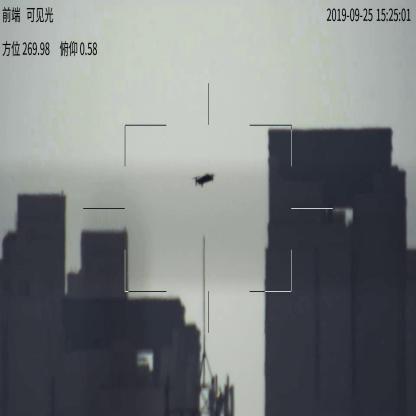uav: (193, 170, 214, 186)
